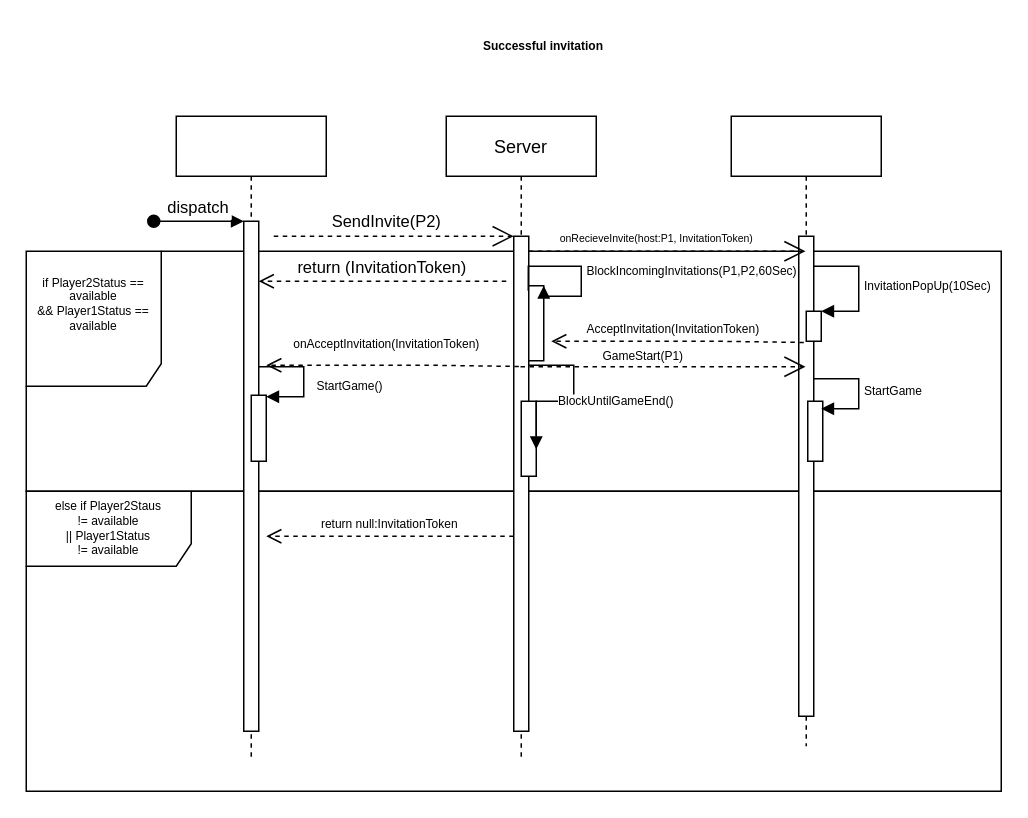
Image size: 1028x818. Some labels were removed from this diagram. The centre of each missing label's shape, as x and y in pixels:
"Player1" belongs at point (250, 438).
"Player2" belongs at point (805, 430).
